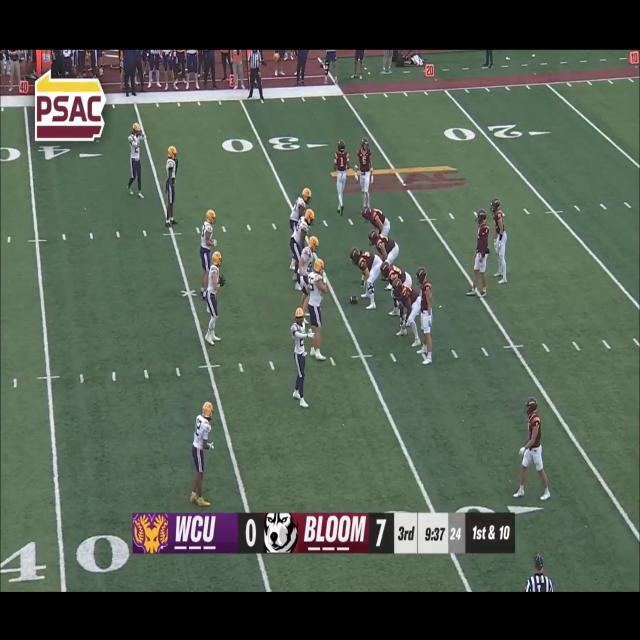football: (349, 294, 358, 306)
